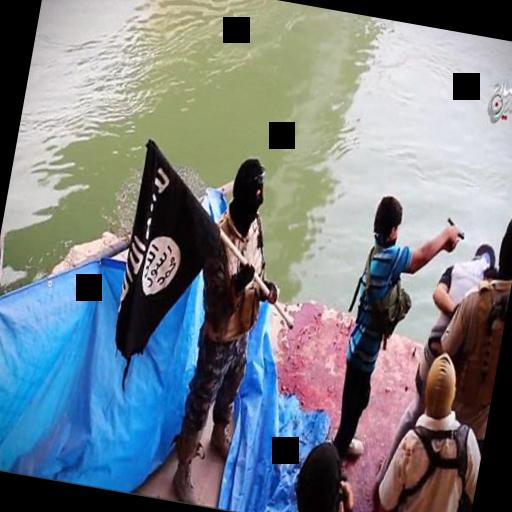Handgun: (440, 214, 468, 254)
